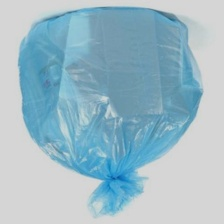plastic_bag: (15, 1, 212, 221)
